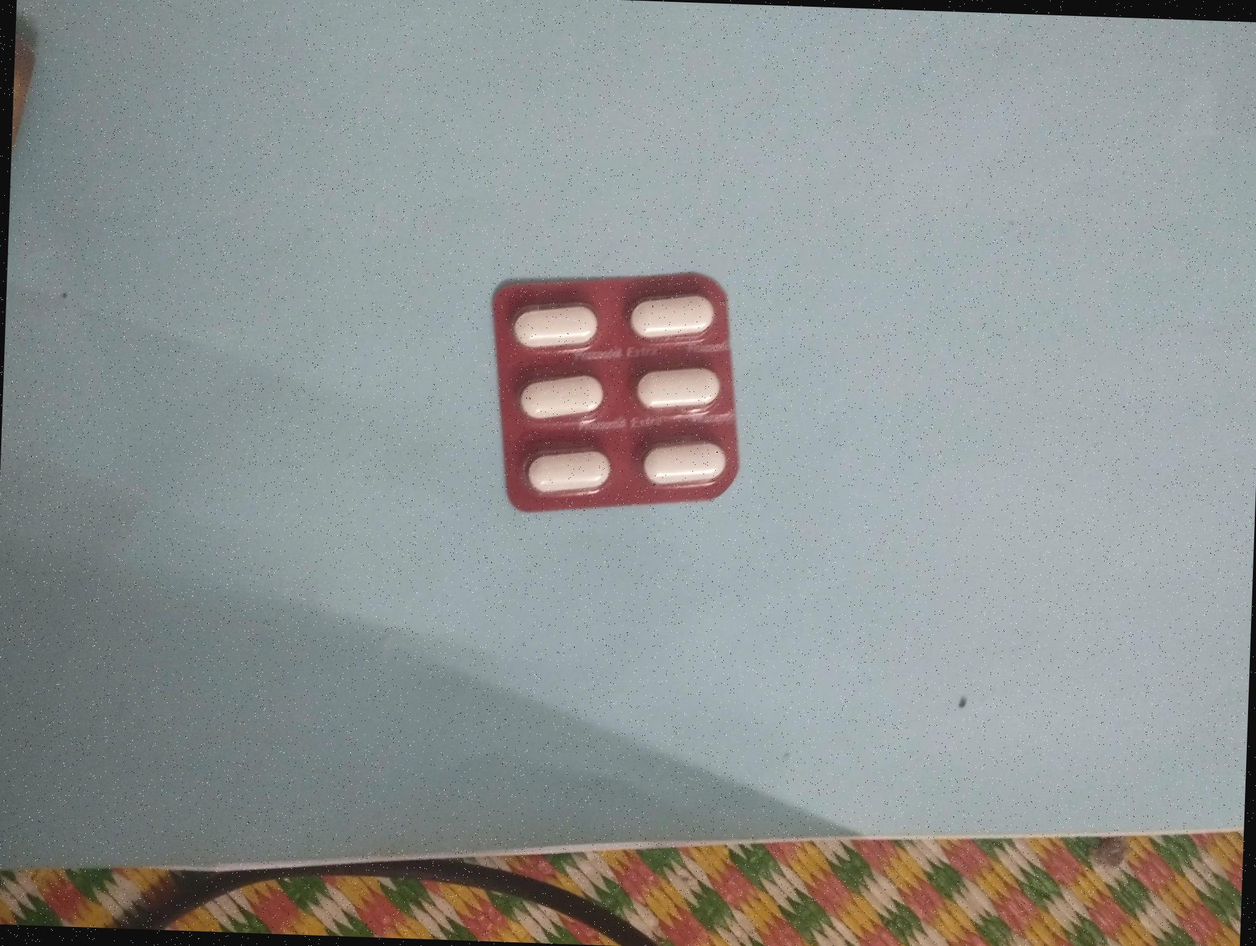Full: (623, 363, 730, 413), (508, 368, 610, 420), (506, 298, 605, 349), (622, 288, 714, 342), (516, 446, 614, 494), (635, 441, 724, 486)
